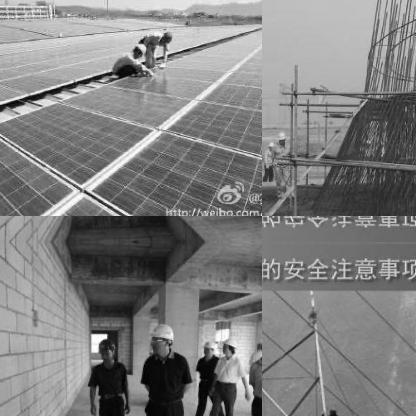Helmet: (147, 318, 175, 354), (96, 335, 118, 365), (218, 333, 236, 357), (200, 334, 216, 358), (132, 40, 146, 58), (158, 28, 172, 42), (276, 128, 286, 142), (326, 405, 339, 415), (264, 140, 274, 148)
